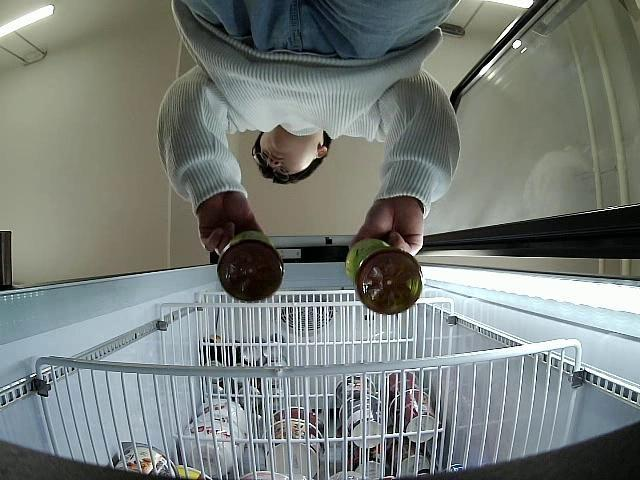19_17cha: (345, 237, 422, 316), (218, 230, 284, 303)
